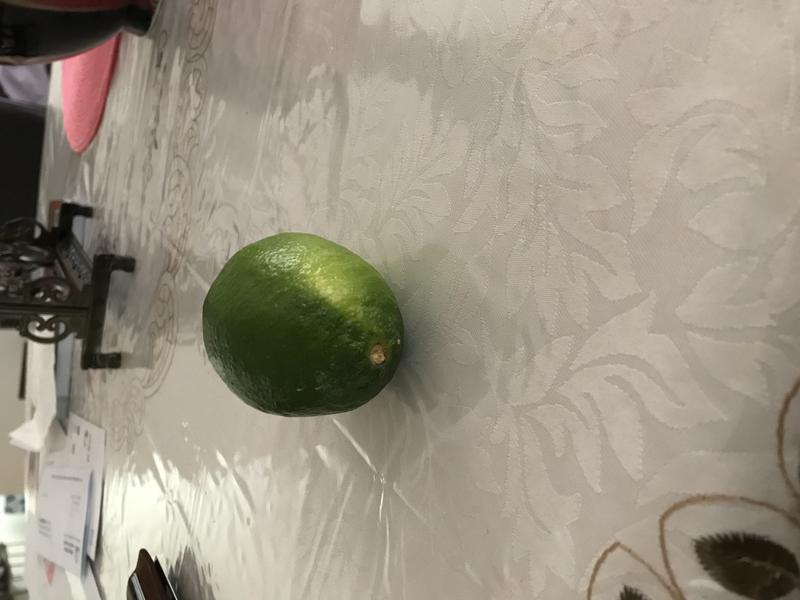lime: (194, 224, 416, 429)
